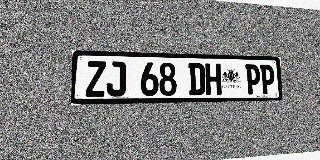6: (141, 62, 159, 96)
8: (159, 62, 177, 96)
D: (188, 63, 205, 95)
H: (205, 63, 221, 95)
J: (106, 61, 126, 97)
P: (245, 64, 261, 95), (260, 64, 275, 94)
Z: (86, 61, 106, 97)
